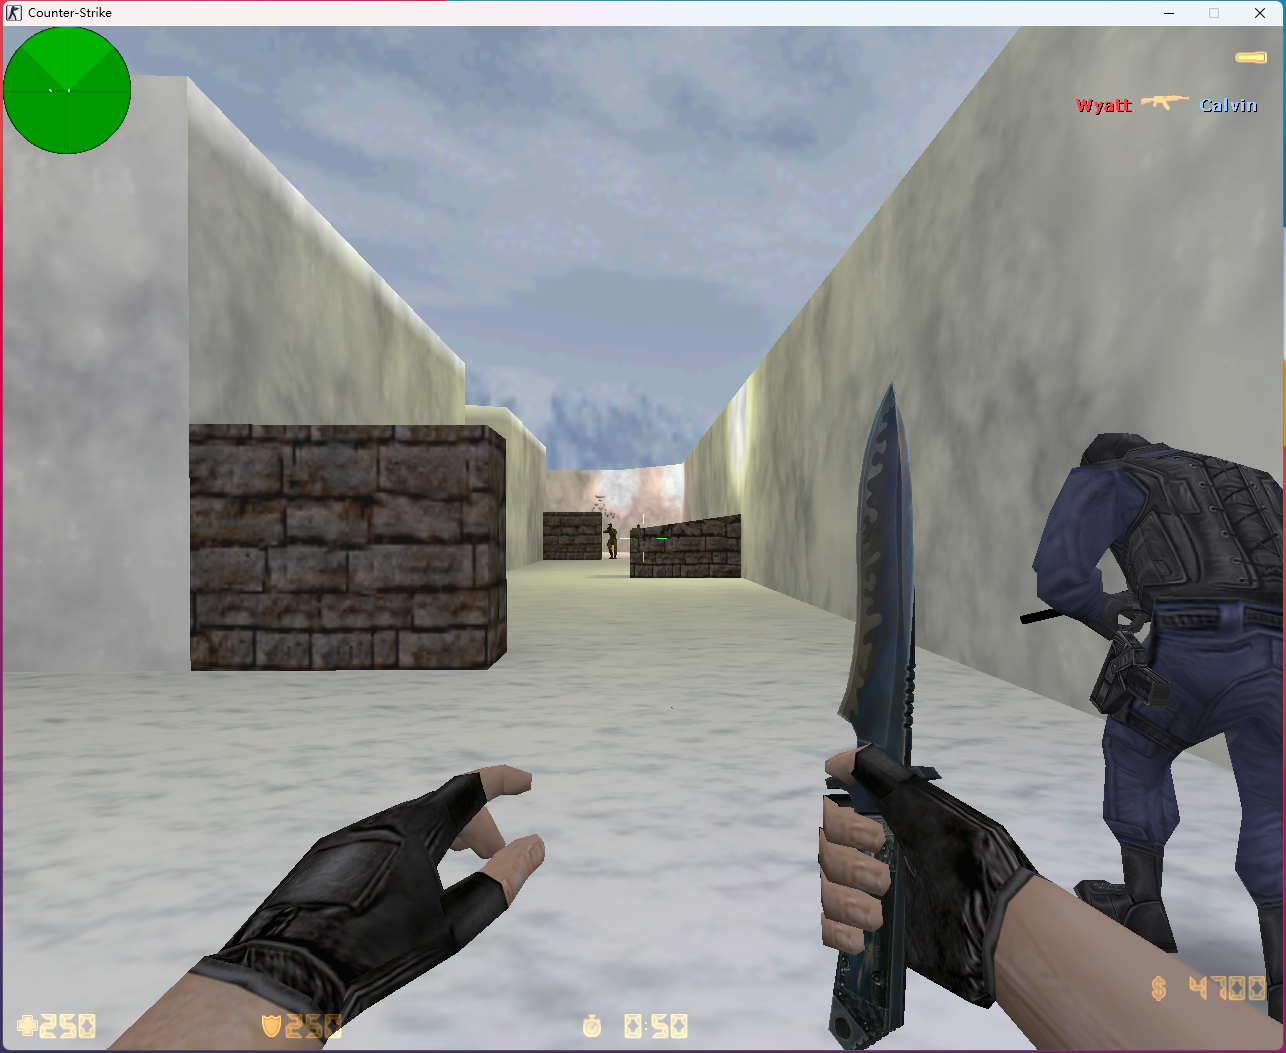C: (1020, 426, 1286, 1023)
T: (603, 525, 620, 557), (631, 522, 646, 532)
